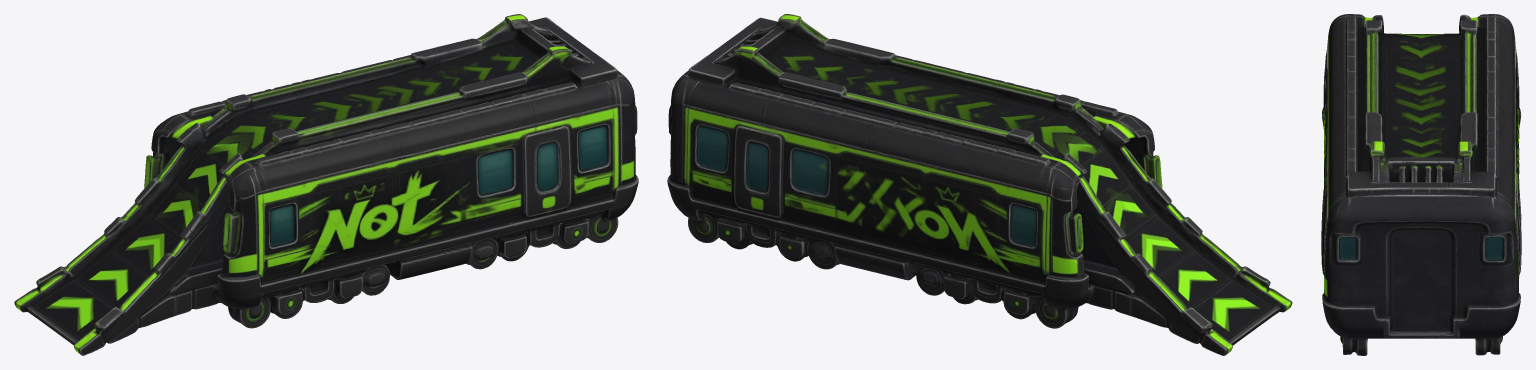
The model's file is Meshy_AI_Neon_Velocity_Carrier_0905231253_texture.glb.
The picture shows the model from 3 angles, left to right: view 1: azimuth 30°, elevation 25°; view 2: azimuth 150°, elevation 25°; view 3: azimuth 270°, elevation 25°; orthographic projection. The views are drawn at different scales.
Visible parts, largest first — view 1: mesh_node; view 2: mesh_node; view 3: mesh_node.
Boxes of the visible parts, box(x1,y1,x2,y2) form: mesh_node: box(14, 14, 638, 355); mesh_node: box(667, 14, 1292, 355); mesh_node: box(1321, 14, 1521, 355).
Bounding box in the file's own units: 1.9 × 0.6288 × 0.5817.
1 material, 1 textured.
